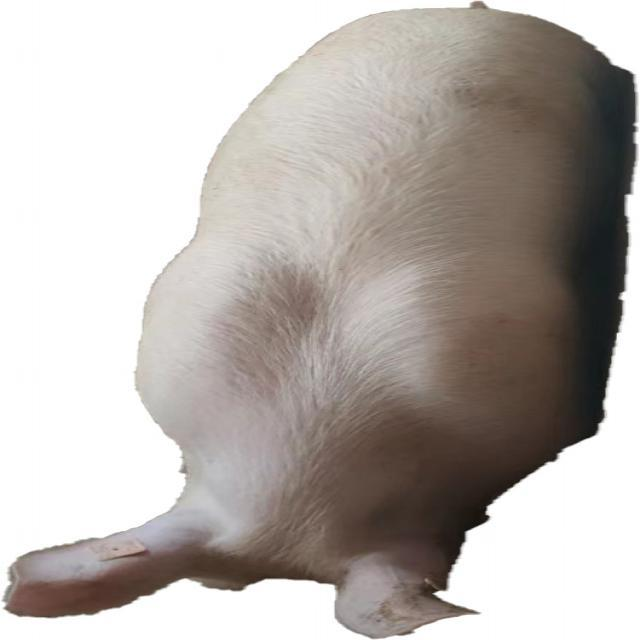pig: (5, 2, 635, 637)
